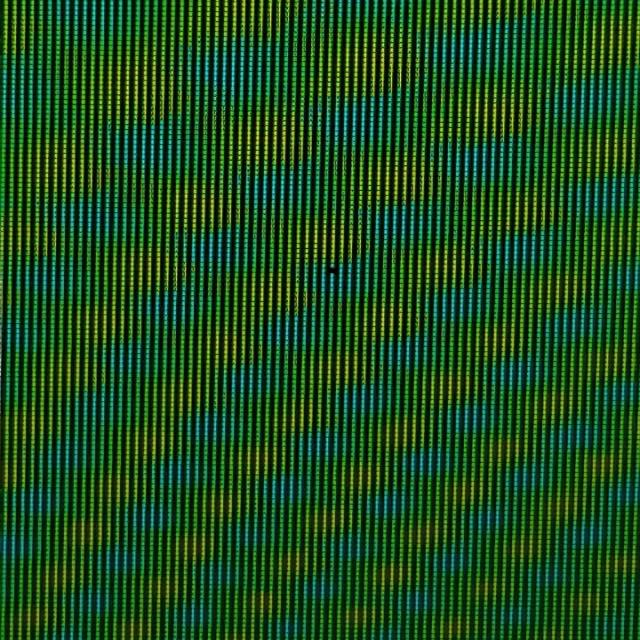Dead pixel: (327, 267, 336, 274)
